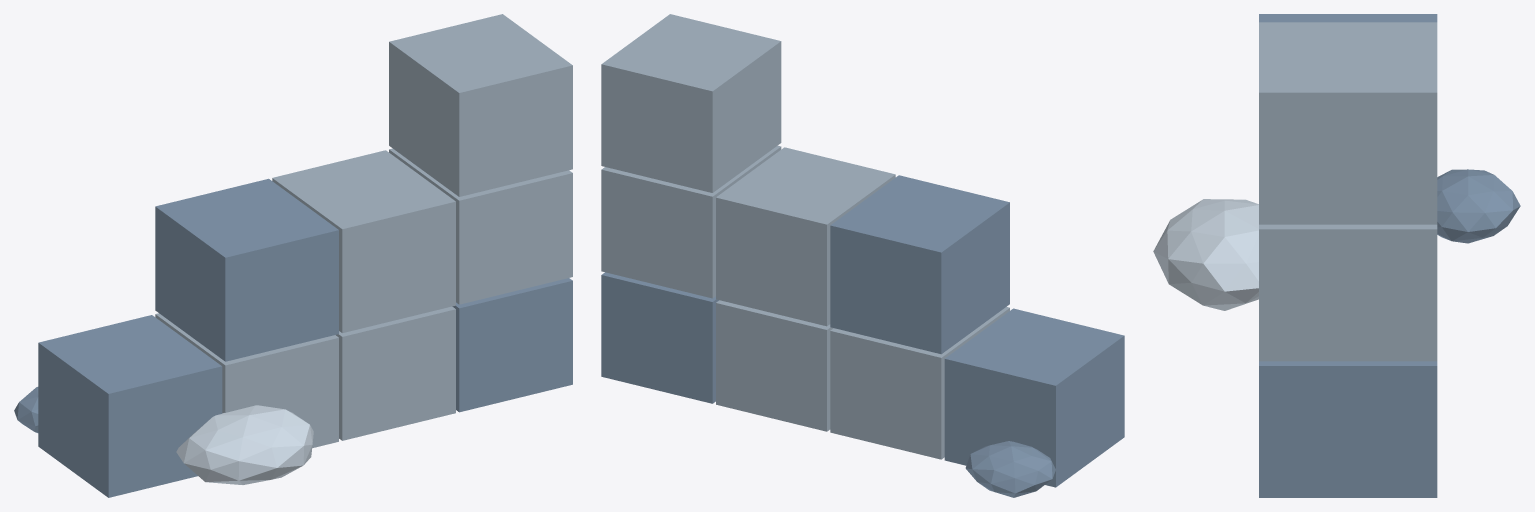
The model's file is wall-broken-snowy.glb.
3 views of the same model, side by side, from view 1: azimuth 30°, elevation 25°; view 2: azimuth 150°, elevation 25°; view 3: azimuth 270°, elevation 25° (orthographic). The views are drawn at different scales.
Visible parts, largest first — view 1: wall-broken-kit-snowy-stone, wall-broken-kit-snowy-shade, wall-broken-kit-snowy-light; view 2: wall-broken-kit-snowy-stone, wall-broken-kit-snowy-shade; view 3: wall-broken-kit-snowy-stone, wall-broken-kit-snowy-shade, wall-broken-kit-snowy-light.
Part boxes in pixels (x1,y1,x2,y2): wall-broken-kit-snowy-stone: (155,14,572,447); wall-broken-kit-snowy-shade: (14,178,572,497); wall-broken-kit-snowy-light: (176,405,313,484); wall-broken-kit-snowy-stone: (601,14,1009,459); wall-broken-kit-snowy-shade: (601,175,1124,497); wall-broken-kit-snowy-stone: (1259,22,1437,361); wall-broken-kit-snowy-shade: (1259,14,1520,497); wall-broken-kit-snowy-light: (1153,199,1258,310).
Size of the model in its own units: 2.02 by 1.31 by 1.07.
